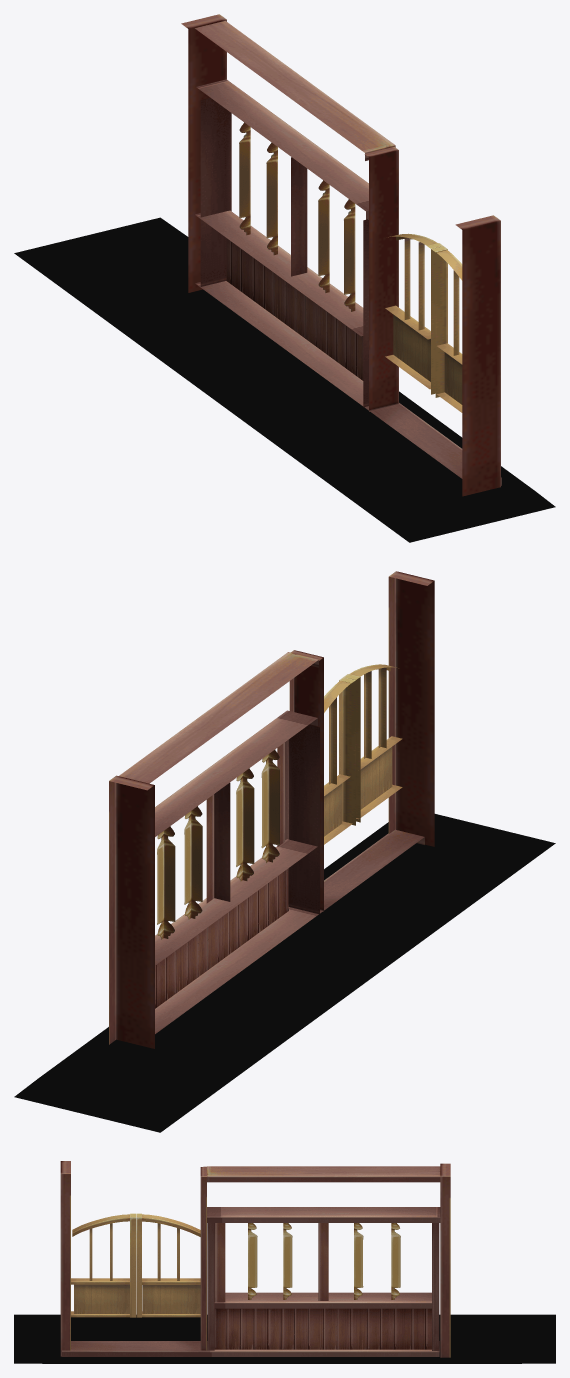
The model's file is K1_oldbalconydoor.FBX.
3 views of the same model, one above another, from view 1: azimuth 30°, elevation 25°; view 2: azimuth 150°, elevation 25°; view 3: azimuth 270°, elevation 25° (orthographic). The views are drawn at different scales.
Parts seen in each view (by area): view 1: OBD_00, OBD_yy, OBD_15, OBD_16, OBD_13, OBD_10, OBD_12, OBD_11; view 2: OBD_00, OBD_yy, OBD_16, OBD_15, OBD_12, OBD_10, OBD_11, OBD_13; view 3: OBD_00, OBD_yy, OBD_15, OBD_16, OBD_10, OBD_12, OBD_13, OBD_11.
Boxes of the visible parts, <box> form: OBD_00: <box>181,14,501,496</box>; OBD_yy: <box>14,217,555,542</box>; OBD_15: <box>385,233,443,394</box>; OBD_16: <box>431,246,462,412</box>; OBD_13: <box>344,199,355,311</box>; OBD_10: <box>239,122,250,235</box>; OBD_12: <box>318,180,329,292</box>; OBD_11: <box>266,142,277,255</box>; OBD_00: <box>109,571,434,1048</box>; OBD_yy: <box>14,814,555,1132</box>; OBD_16: <box>344,664,402,822</box>; OBD_15: <box>324,677,355,844</box>; OBD_12: <box>236,768,254,881</box>; OBD_10: <box>157,826,175,939</box>; OBD_11: <box>184,806,202,919</box>; OBD_13: <box>261,749,279,862</box>; OBD_00: <box>60,1161,450,1357</box>; OBD_yy: <box>14,1314,555,1363</box>; OBD_15: <box>136,1213,200,1317</box>; OBD_16: <box>71,1213,135,1317</box>; OBD_10: <box>391,1223,400,1299</box>; OBD_12: <box>283,1223,292,1299</box>; OBD_13: <box>248,1223,257,1299</box>; OBD_11: <box>354,1223,363,1299</box>.
Size of the model in its own units: 40.16 by 70.51 by 187.
